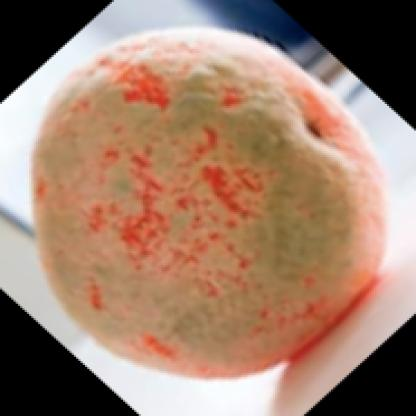rotten: (32, 28, 386, 381)
